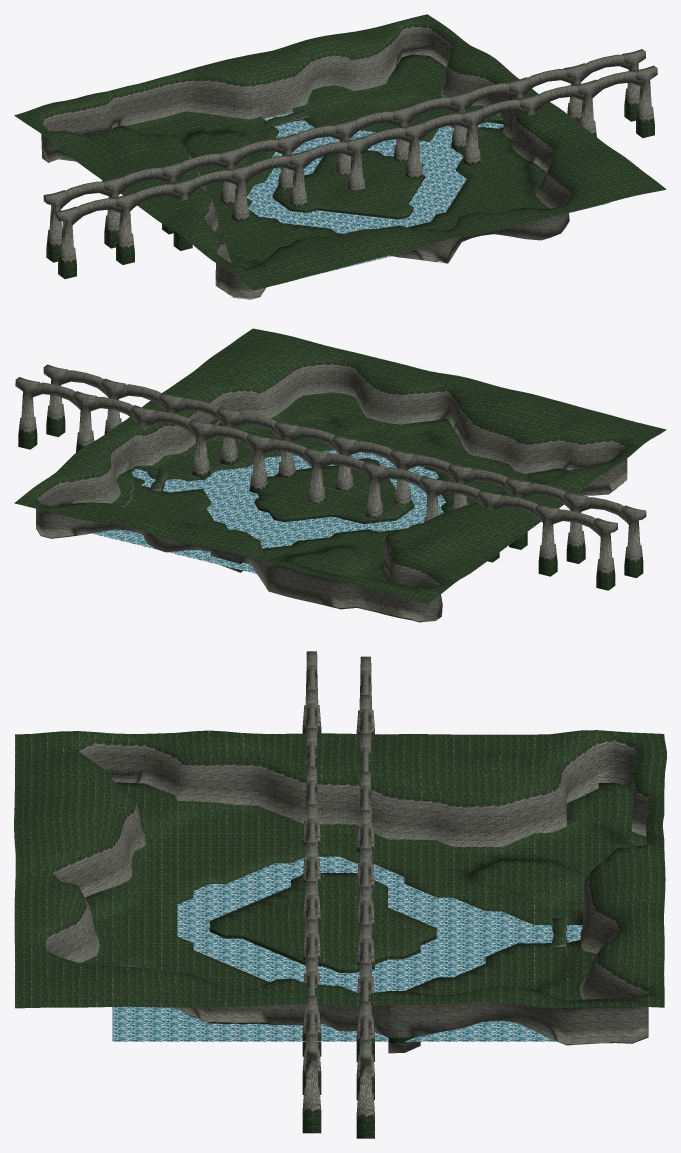
The model's file is env_swamp.fbx.
The picture shows the model from 3 angles, top to bottom: view 1: azimuth 30°, elevation 25°; view 2: azimuth 150°, elevation 25°; view 3: azimuth 270°, elevation 25°; orthographic projection. The views are drawn at different scales.
Parts seen in each view (by area): view 1: env_swamp, stone_pillars, Water, stone_arch, stone_arch.001; view 2: env_swamp, stone_pillars, Water, stone_arch.001, stone_arch; view 3: env_swamp, Water, stone_pillars, stone_arch, stone_arch.001.
Boxes of the visible parts, box(x1,y1,x2,y2) form: env_swamp: box(14, 14, 666, 299); stone_pillars: box(43, 49, 657, 278); Water: box(247, 112, 609, 276); stone_arch: box(60, 54, 631, 208); stone_arch.001: box(72, 71, 643, 224); env_swamp: box(14, 328, 666, 622); stone_pillars: box(15, 364, 646, 590); Water: box(92, 450, 446, 573); stone_arch.001: box(57, 370, 629, 524); stone_arch: box(29, 382, 600, 536); env_swamp: box(14, 730, 666, 1053); Water: box(112, 856, 582, 1041); stone_pillars: box(302, 651, 374, 1138); stone_arch: box(363, 670, 368, 1039); stone_arch.001: box(309, 665, 314, 1034).
Size of the model in its own units: 5865 by 618 by 4026.
2 materials, 2 textured.
